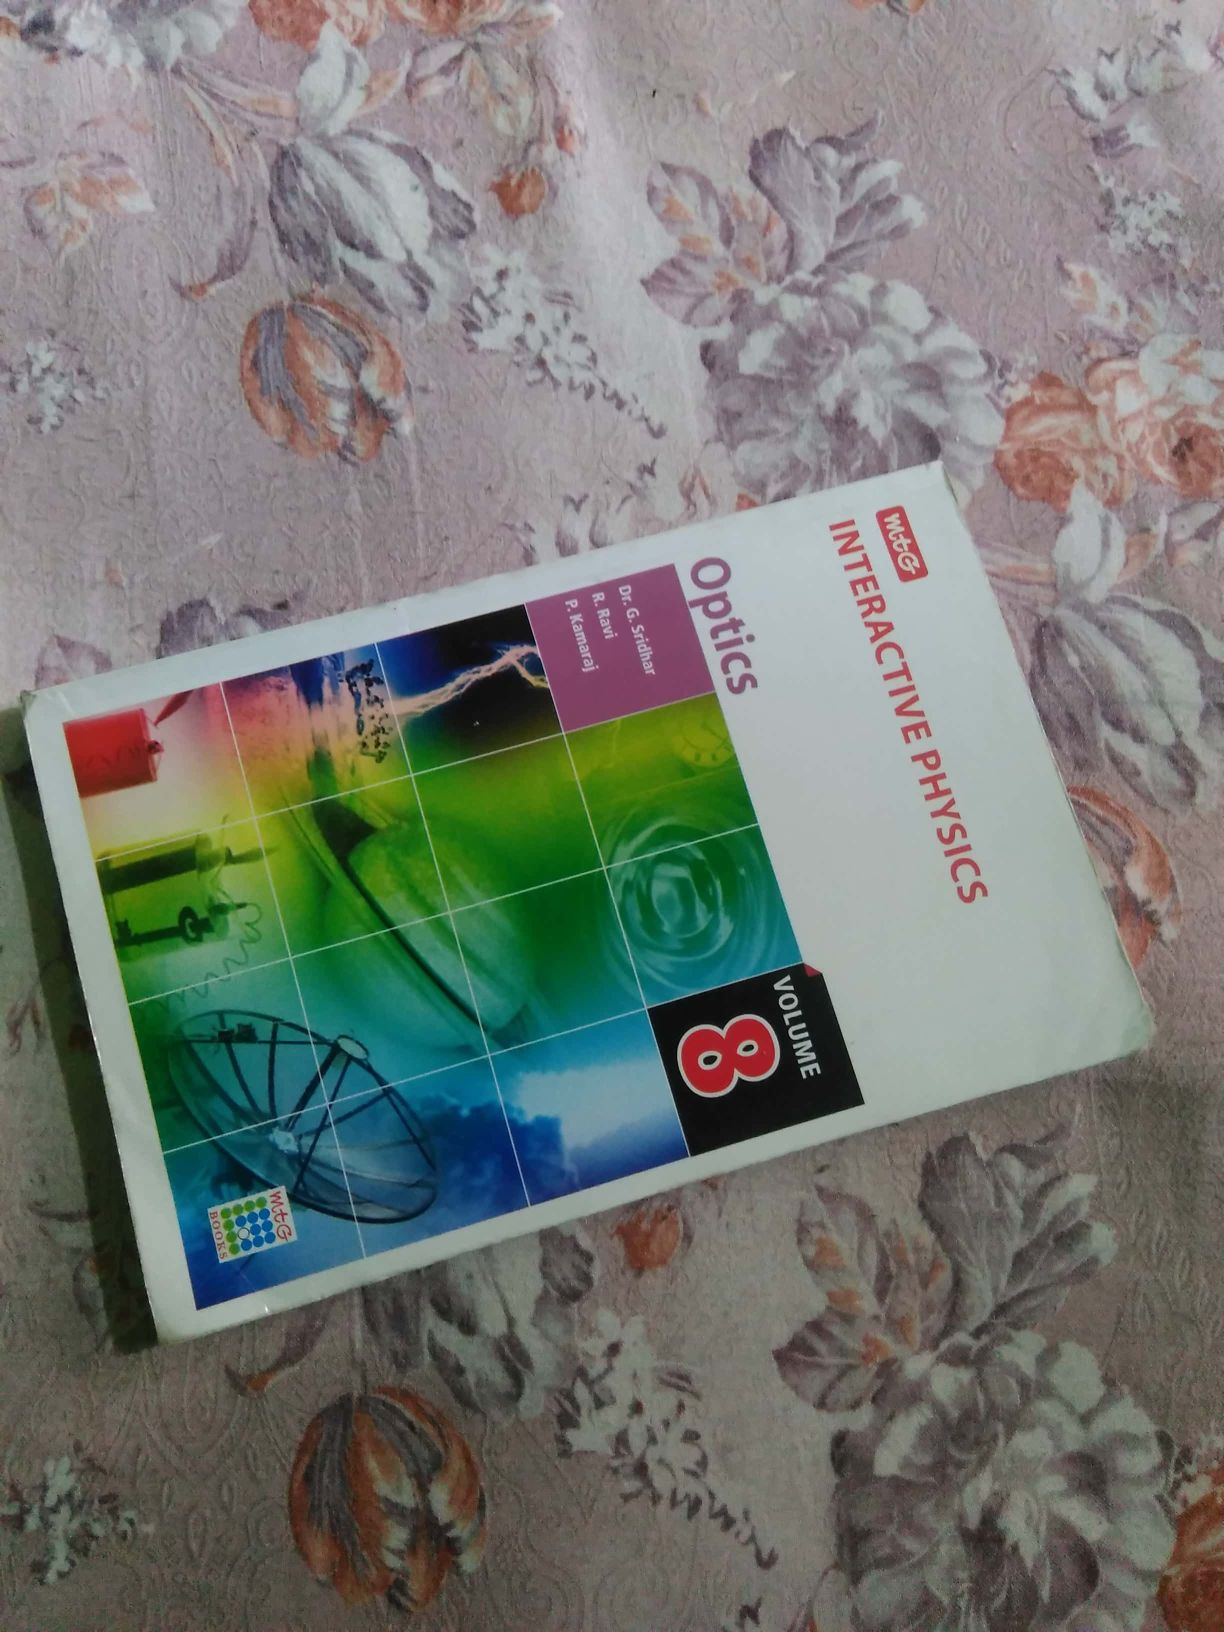optics: (39, 488, 1148, 1315)
